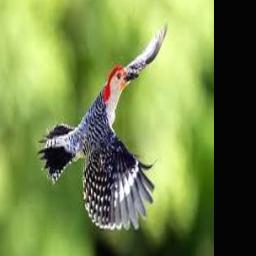Woodpecker: (39, 20, 168, 230)
